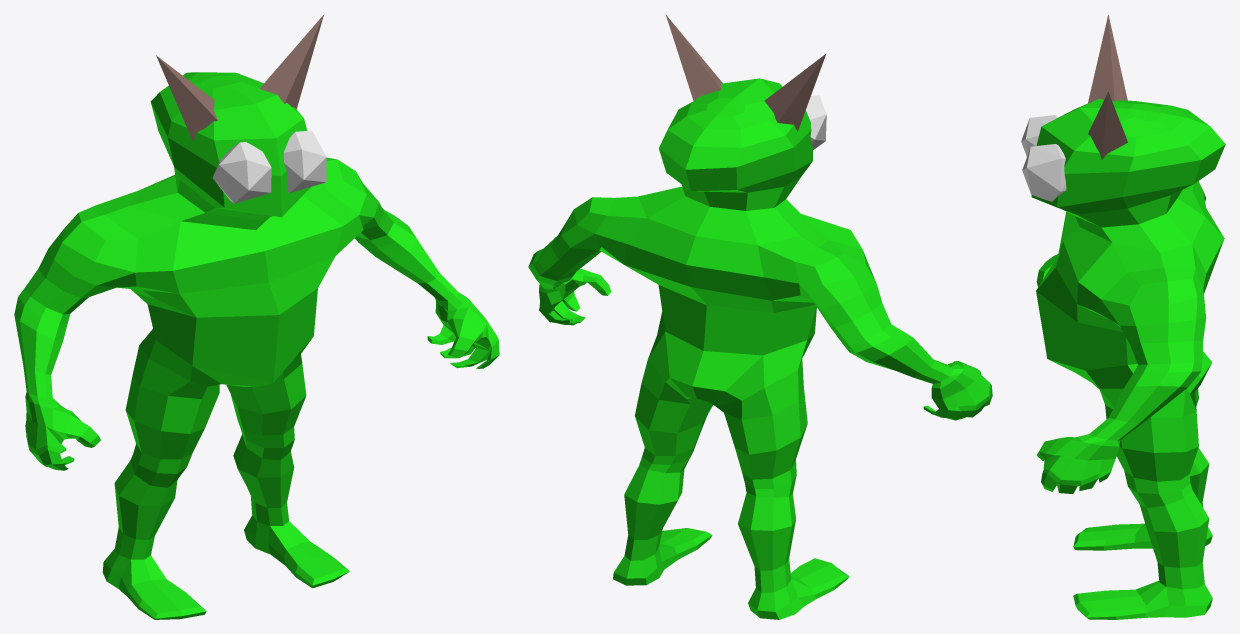
The model's file is Goblin.fbx.
3 renders of one model, left to right at view 1: azimuth 30°, elevation 25°; view 2: azimuth 150°, elevation 25°; view 3: azimuth 270°, elevation 25°, orthographic. The views are drawn at different scales.
Parts seen in each view (by area): view 1: BaseMeshBKP, Sphere.002, Sphere.001, Cone.001, Cone; view 2: BaseMeshBKP, Cone, Cone.001, Sphere.002; view 3: BaseMeshBKP, Sphere.001, Cone, Cone.001, Sphere.002.
Part boxes in pixels (x1,y1,x2,y2): BaseMeshBKP: [14, 72, 499, 619]; Sphere.002: [212, 142, 271, 203]; Sphere.001: [283, 130, 326, 192]; Cone.001: [259, 15, 323, 108]; Cone: [156, 55, 217, 141]; BaseMeshBKP: [528, 78, 992, 619]; Cone: [764, 54, 825, 131]; Cone.001: [665, 14, 722, 100]; Sphere.002: [806, 95, 826, 149]; BaseMeshBKP: [1031, 99, 1225, 619]; Sphere.001: [1022, 144, 1066, 201]; Cone: [1088, 15, 1127, 103]; Cone.001: [1088, 91, 1127, 160]; Sphere.002: [1021, 115, 1058, 156].
Size of the model in its own units: 214 by 247 by 87.71.
